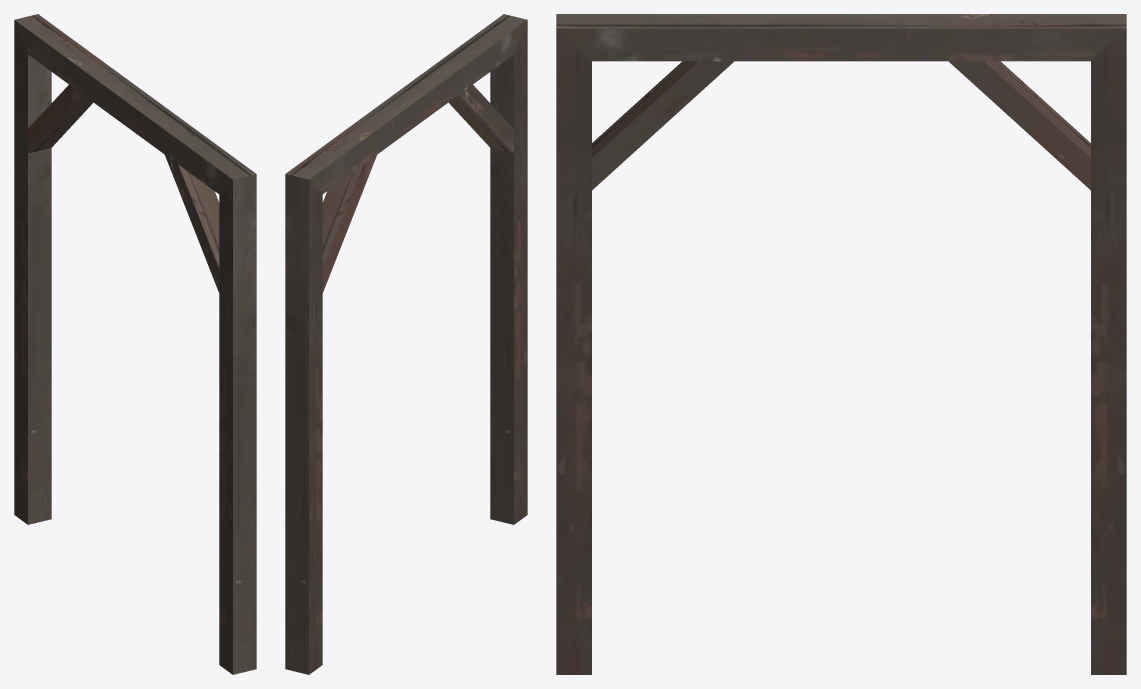
3 views of the same model, side by side, from view 1: azimuth 30°, elevation 25°; view 2: azimuth 150°, elevation 25°; view 3: azimuth 270°, elevation 25° (orthographic). The views are drawn at different scales.
Parts seen in each view (by area): view 1: body0_model0_lod0_mesh0; view 2: body0_model0_lod0_mesh0; view 3: body0_model0_lod0_mesh0.
Boxes of the visible parts, left/top/right/bottom form: body0_model0_lod0_mesh0: left=14, top=14, right=256, bottom=674; body0_model0_lod0_mesh0: left=285, top=14, right=527, bottom=674; body0_model0_lod0_mesh0: left=556, top=14, right=1126, bottom=674.
Bounding box in the file's own units: 8.01 × 160 × 128.
1 material, 1 textured.
